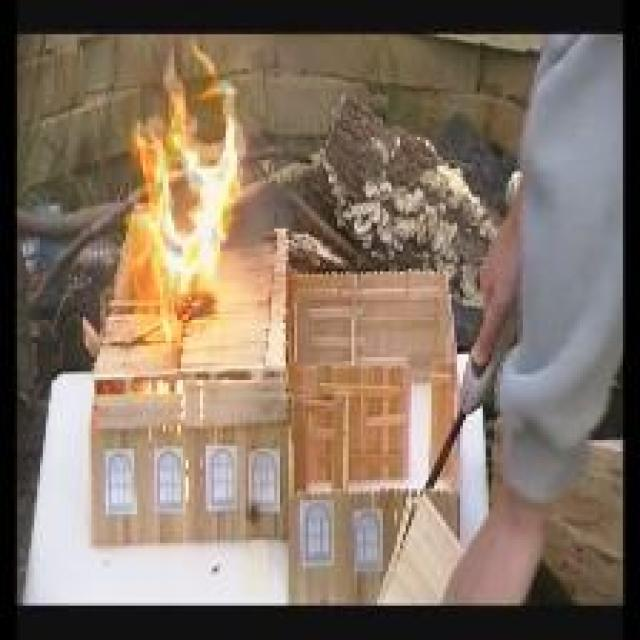Fire: (130, 44, 244, 347)
